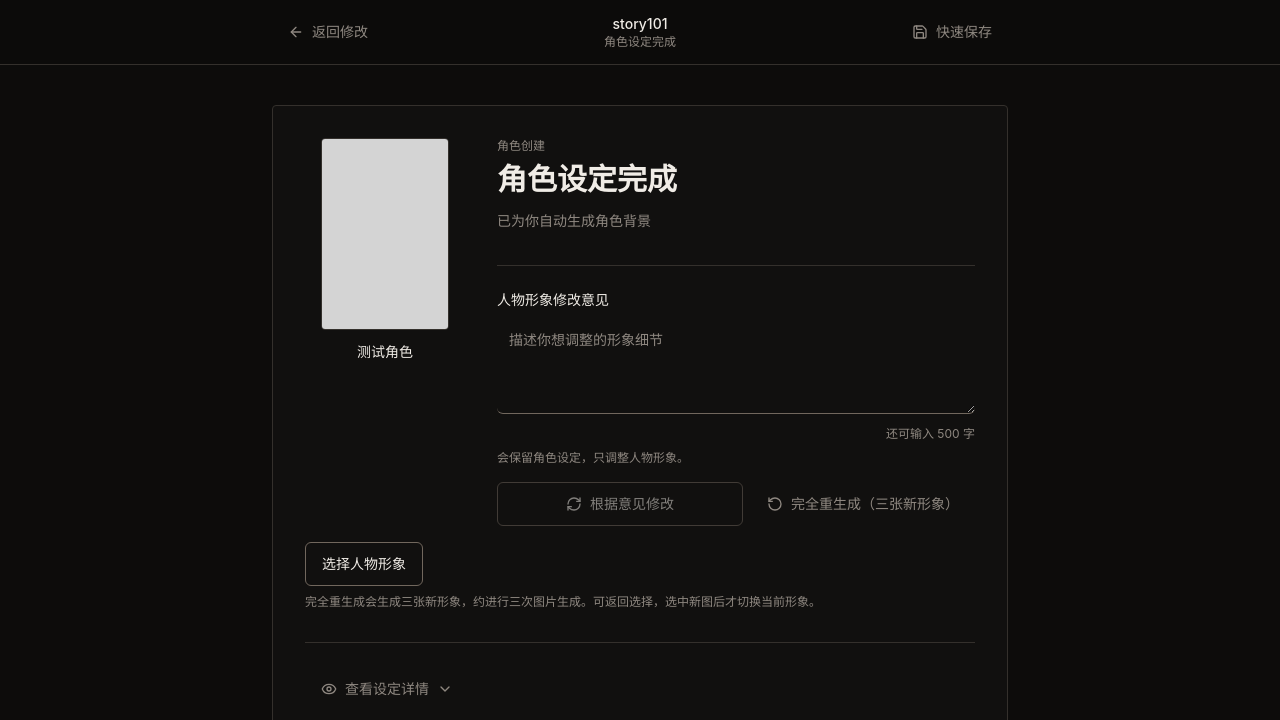
Test case: CompletionScreen - Loading Feedback › 完全重生成按钮点击后进入加载状态
Click the button "完全重生成（三张新形象）".
click(863, 504)  # box [751, 482, 975, 526]
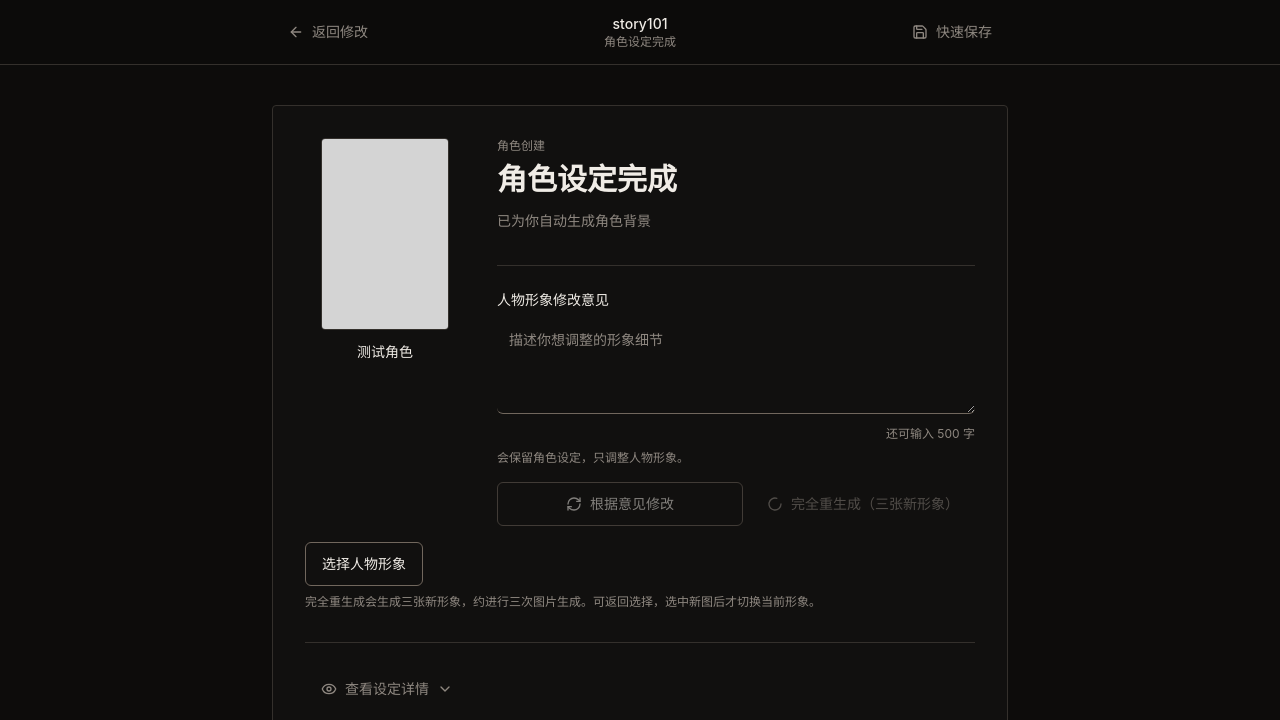
Now the button "完全重生成（三张新形象）" is disabled, box [751, 482, 975, 526]
